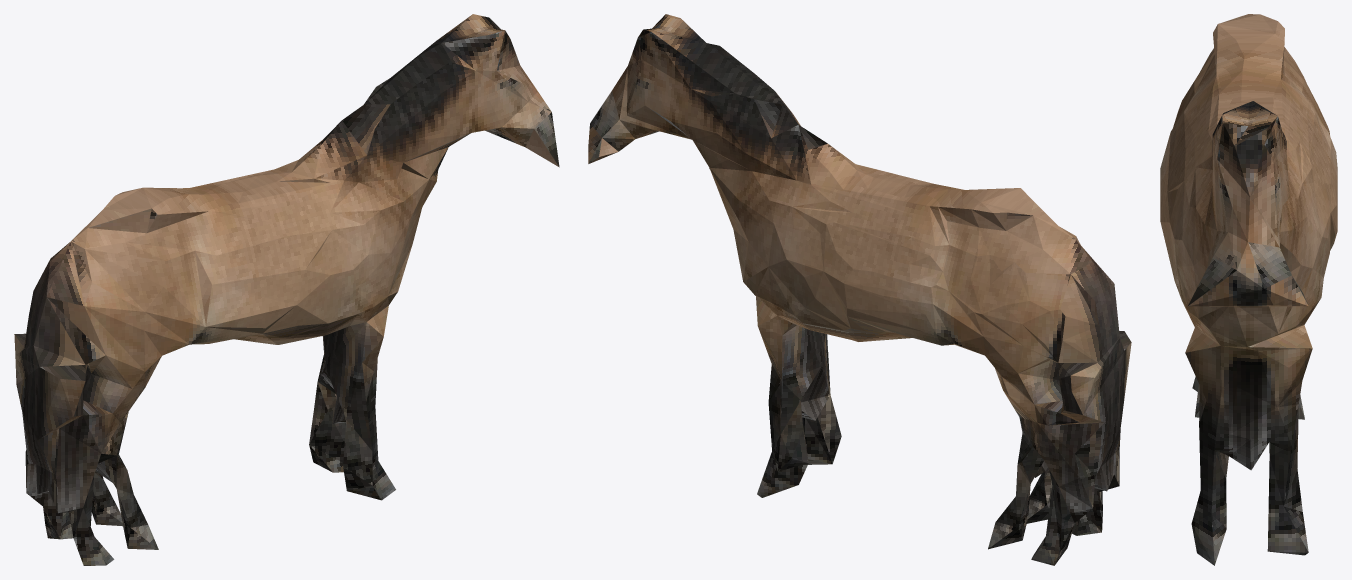
The model's file is animal.montura.caballo_estepario.glb.
3 renders of one model, left to right at view 1: azimuth 30°, elevation 25°; view 2: azimuth 150°, elevation 25°; view 3: azimuth 270°, elevation 25°, orthographic. The views are drawn at different scales.
Visible parts, largest first — view 1: animal.montura.caballo_estepario; view 2: animal.montura.caballo_estepario; view 3: animal.montura.caballo_estepario.
Boxes of the visible parts, x1=… form: animal.montura.caballo_estepario: x1=14, y1=14, x2=559, y2=565; animal.montura.caballo_estepario: x1=588, y1=14, x2=1131, y2=565; animal.montura.caballo_estepario: x1=1160, y1=14, x2=1337, y2=565.
Size of the model in its own units: 2.2 by 1.73 by 0.5467.
Materials: 1 (1 with a texture image).
